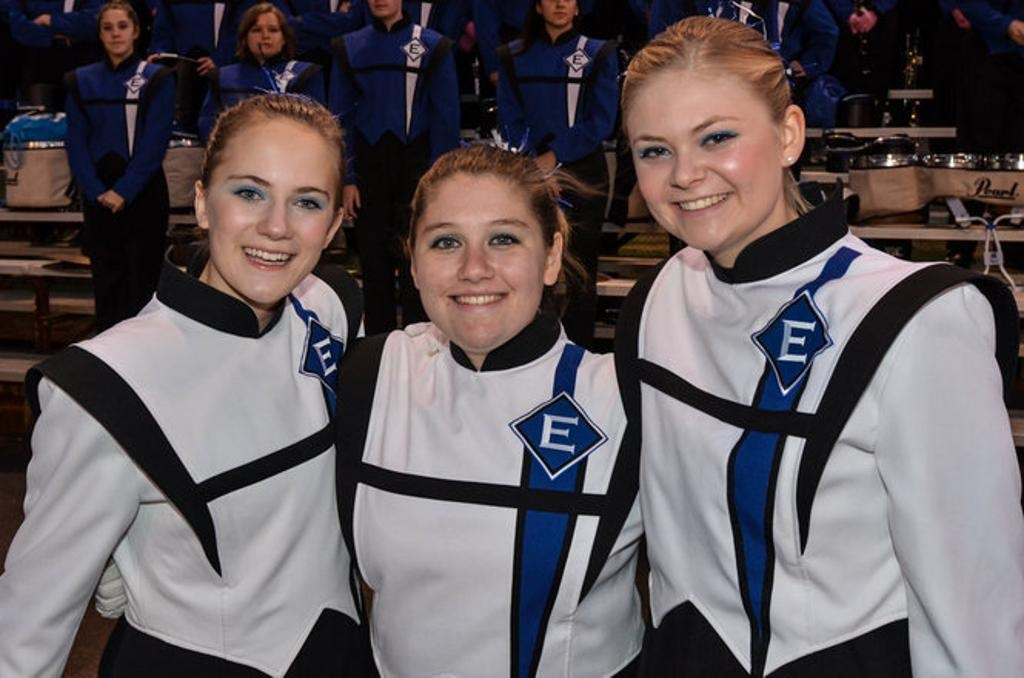human_face: (628, 69, 778, 251), (206, 120, 332, 302), (414, 171, 542, 345), (100, 9, 132, 53), (246, 14, 280, 54), (540, 0, 576, 26), (368, 0, 398, 16), (855, 6, 871, 28)
